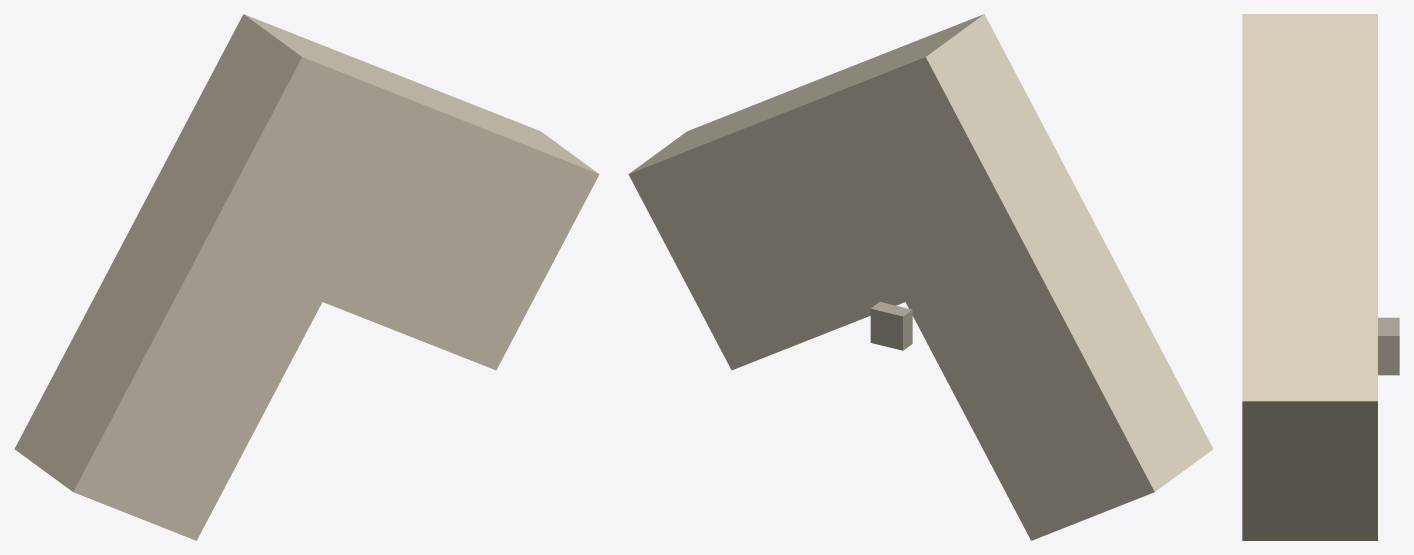
Rendered from historic-palestine-17_35_3586_3293.glb.
3 renders of one model, left to right at view 1: azimuth 30°, elevation 25°; view 2: azimuth 150°, elevation 25°; view 3: azimuth 270°, elevation 25°, orthographic. The views are drawn at different scales.
Visible parts, largest first — view 1: Building_; view 2: Building_, Roof access hut; view 3: Building_, Roof access hut.
Part boxes in pixels (x1,y1,x2,y2): Building_: [14, 14, 599, 540]; Building_: [628, 14, 1213, 540]; Roof access hut: [870, 302, 912, 350]; Building_: [1242, 14, 1377, 540]; Roof access hut: [1378, 317, 1399, 375].
Bounding box in the file's own units: 38.8 × 32.28 × 8.7.
